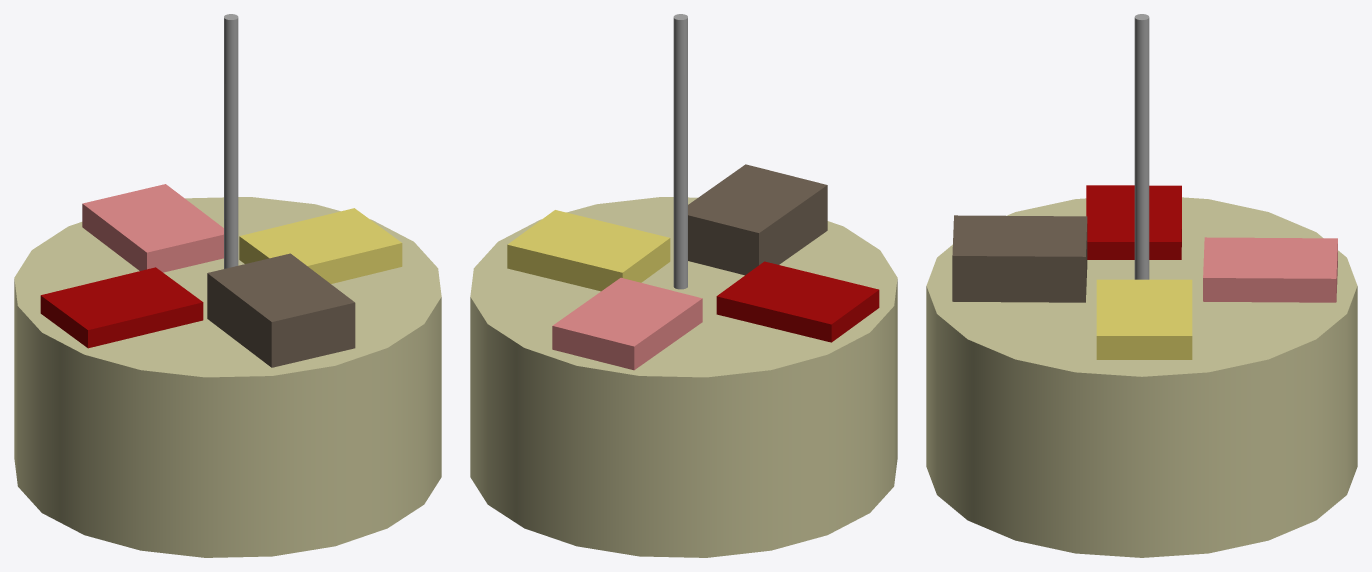
The model's file is Clothing Table 3.fbx.
3 renders of one model, left to right at view 1: azimuth 30°, elevation 25°; view 2: azimuth 150°, elevation 25°; view 3: azimuth 270°, elevation 25°, orthographic.
Parts seen in each view (by area): view 1: etale_sirculaire_vetement, pCube26, pCube24, pCube25, pCube23, pCylinder1; view 2: etale_sirculaire_vetement, pCube26, pCube24, pCube23, pCube25, pCylinder1; view 3: etale_sirculaire_vetement, pCube26, pCube24, pCube23, pCube25, pCylinder1.
Boxes of the visible parts, x1=… form: etale_sirculaire_vetement: x1=14, y1=197, x2=441, y2=557; pCube26: x1=207, y1=253, x2=355, y2=367; pCube24: x1=82, y1=184, x2=223, y2=272; pCube25: x1=40, y1=267, x2=203, y2=348; pCube23: x1=239, y1=208, x2=402, y2=283; pCylinder1: x1=224, y1=14, x2=238, y2=268; etale_sirculaire_vetement: x1=470, y1=197, x2=897, y2=557; pCube26: x1=688, y1=164, x2=827, y2=275; pCube24: x1=552, y1=277, x2=702, y2=370; pCube23: x1=507, y1=210, x2=670, y2=291; pCube25: x1=716, y1=261, x2=879, y2=342; pCylinder1: x1=673, y1=14, x2=687, y2=289; etale_sirculaire_vetement: x1=926, y1=197, x2=1357, y2=557; pCube26: x1=952, y1=215, x2=1087, y2=302; pCube24: x1=1203, y1=237, x2=1337, y2=302; pCube23: x1=1096, y1=279, x2=1192, y2=359; pCube25: x1=1086, y1=185, x2=1181, y2=259; pCylinder1: x1=1134, y1=14, x2=1149, y2=279.
Size of the model in its own units: 1.73 by 2 by 1.73.
